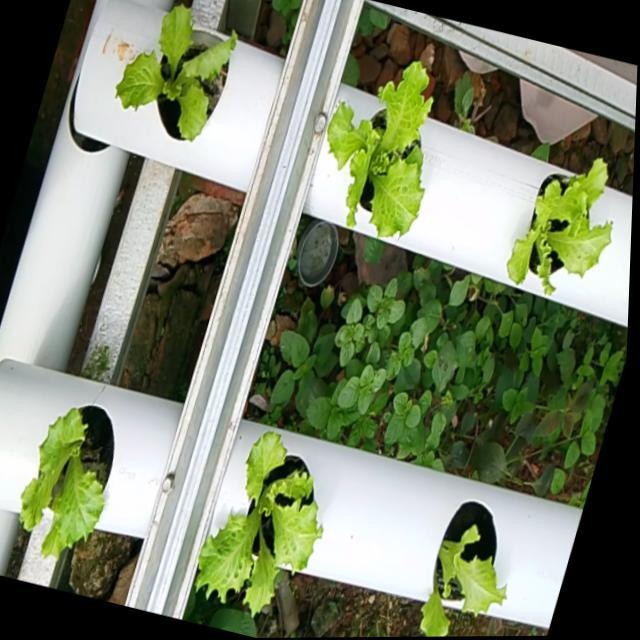Baby: (191, 435, 321, 621), (324, 67, 430, 243), (114, 11, 235, 148), (19, 410, 113, 562), (504, 161, 607, 298), (419, 501, 504, 637)
